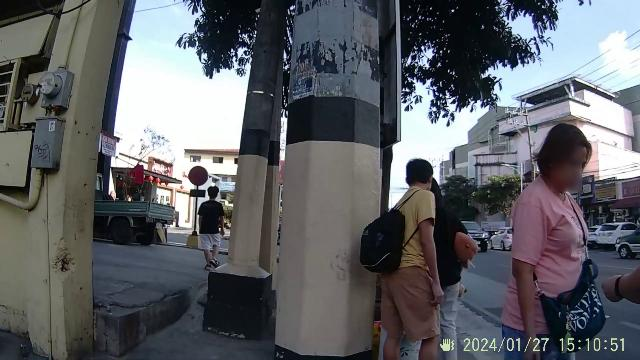utility_post: (222, 32, 408, 358)
